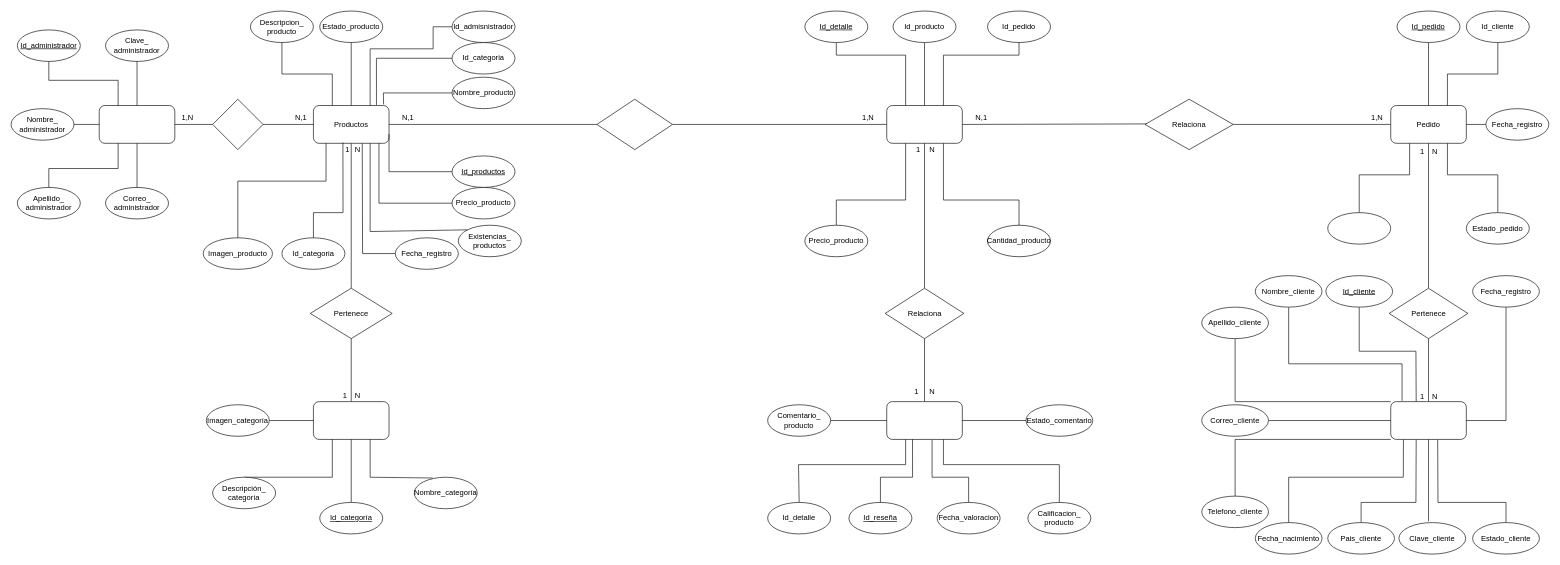
Some shapes in this 1560 by 565 pixel diagram are drawn without their labels. The shapes that lost their labels are listed below. From the top down, each one's centre as x and y in pixels, then its label:
At (x=137, y=124): "Administrador".
At (x=237, y=124): "Agrega".
At (x=634, y=124): "Incluye".
At (x=924, y=124): "Detalle de pedido".
At (x=1359, y=228): "Direccion_pedido".
At (x=351, y=420): "Categoría".
At (x=924, y=420): "Reseña".
At (x=1428, y=420): "Cliente".
